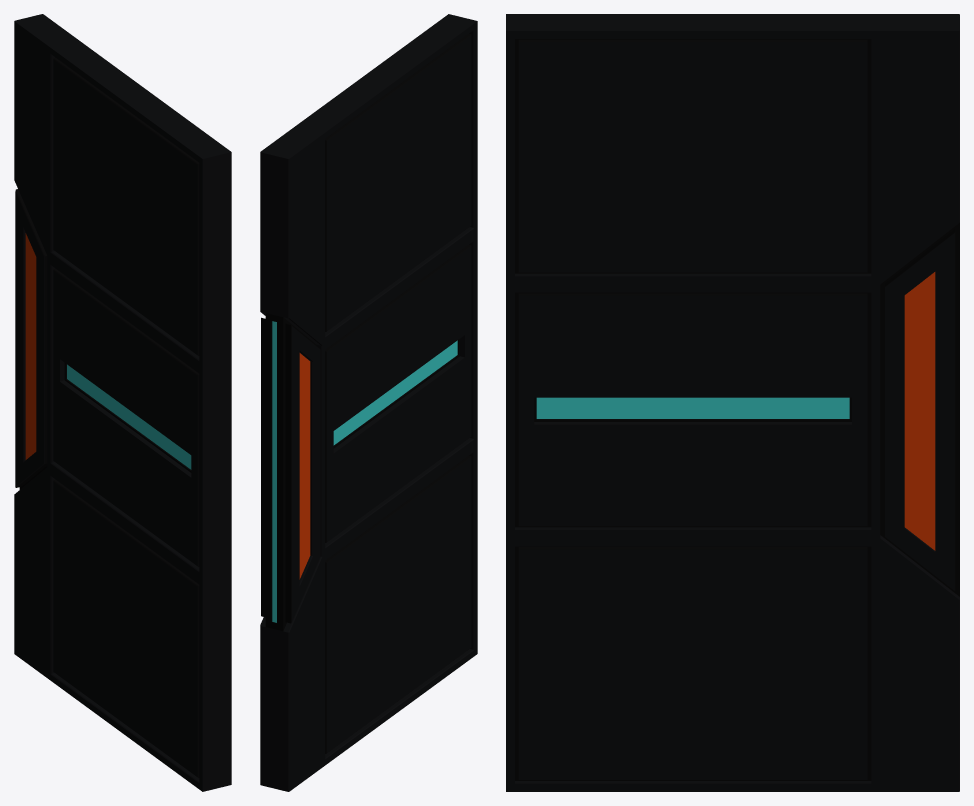
Rendered from SM_Door_Double_V2L.obj.
3 renders of one model, left to right at view 1: azimuth 30°, elevation 25°; view 2: azimuth 150°, elevation 25°; view 3: azimuth 270°, elevation 25°, orthographic. The views are drawn at different scales.
Parts seen in each view (by area): view 1: SM_Door_Double_V2L; view 2: SM_Door_Double_V2L; view 3: SM_Door_Double_V2L.
Boxes of the visible parts, x1,y1,x2,y2 form: SM_Door_Double_V2L: (14, 14, 231, 791); SM_Door_Double_V2L: (260, 14, 477, 791); SM_Door_Double_V2L: (506, 14, 959, 791).
Size of the model in its own units: 0.0936 by 1.85 by 1.
